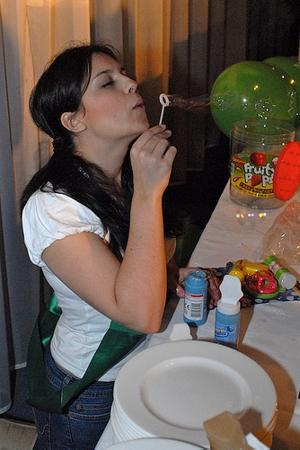person: (21, 40, 179, 450)
